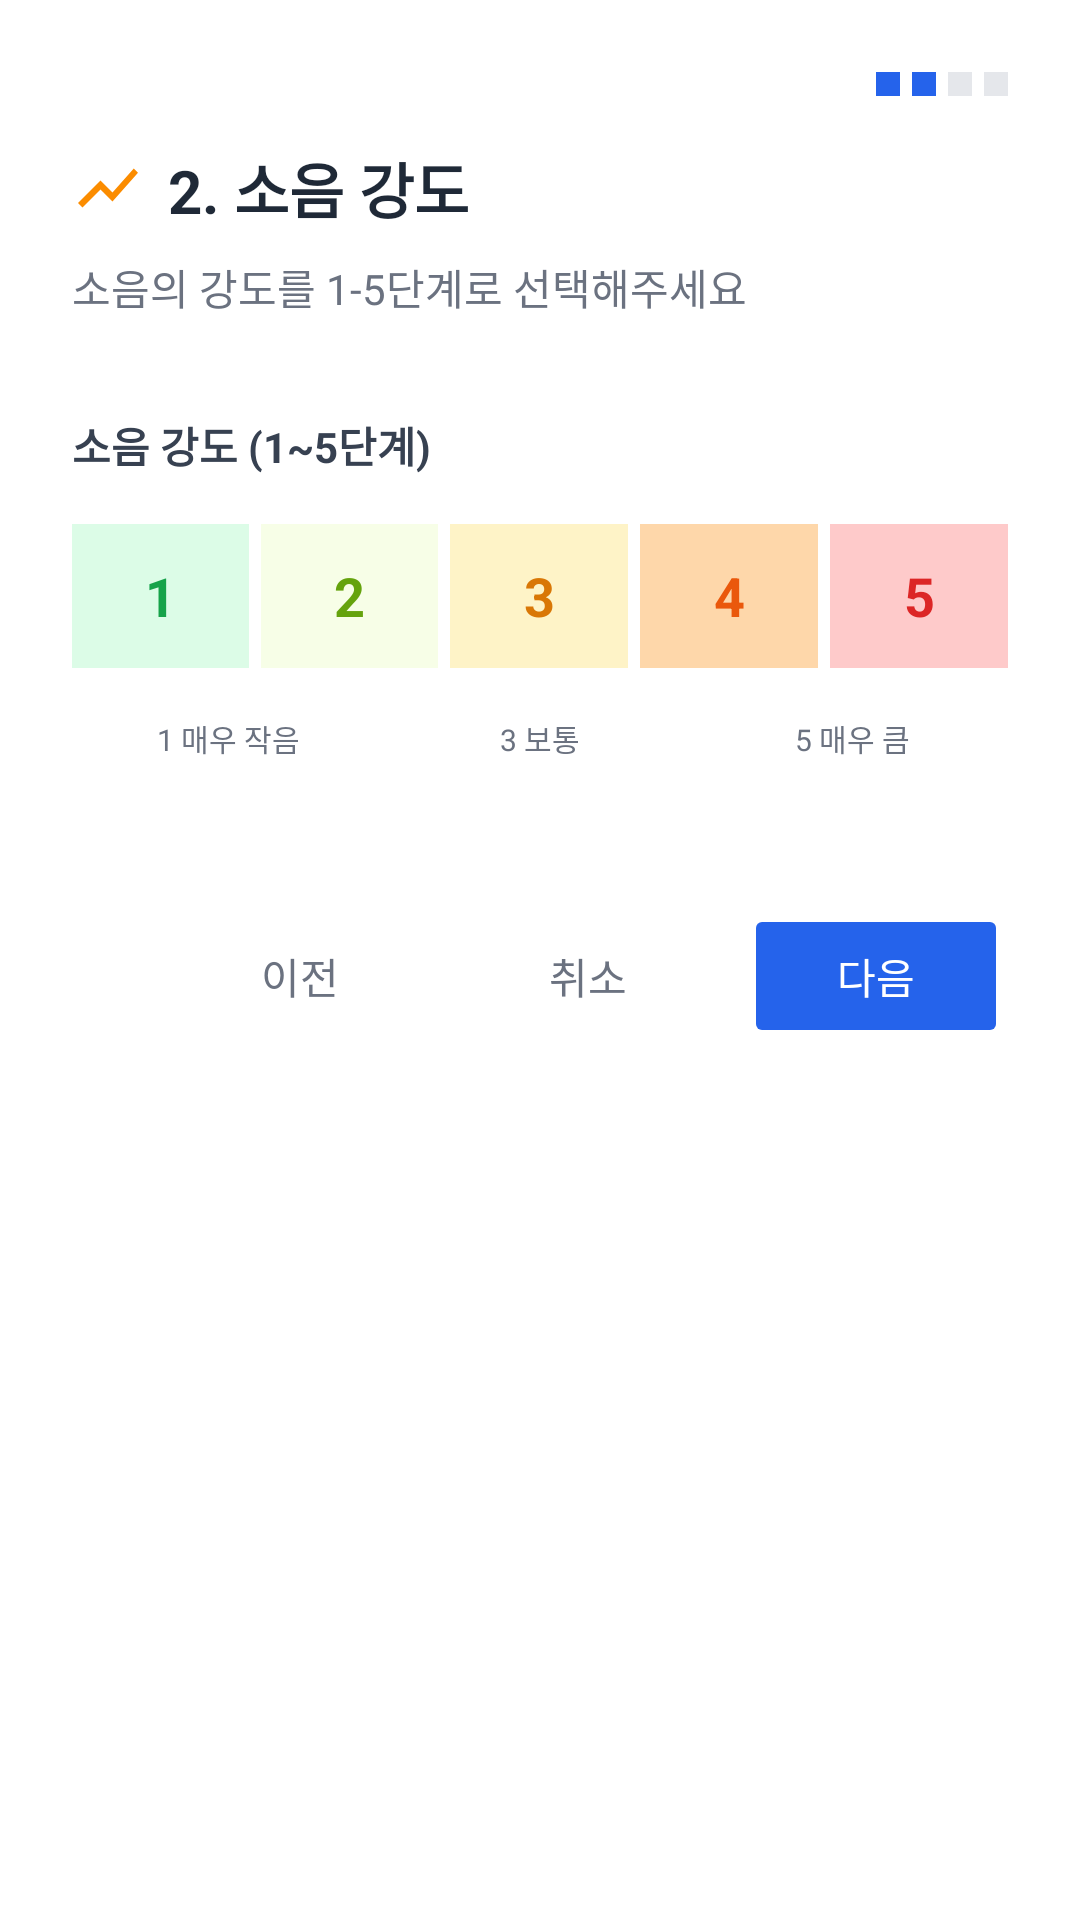

Named icons in this screenshot (1080px×1920px) and their bounding boxes, (left=x1, top=y1, right=x2, bottom=y2):
chart: (left=78, top=168, right=138, bottom=208)
